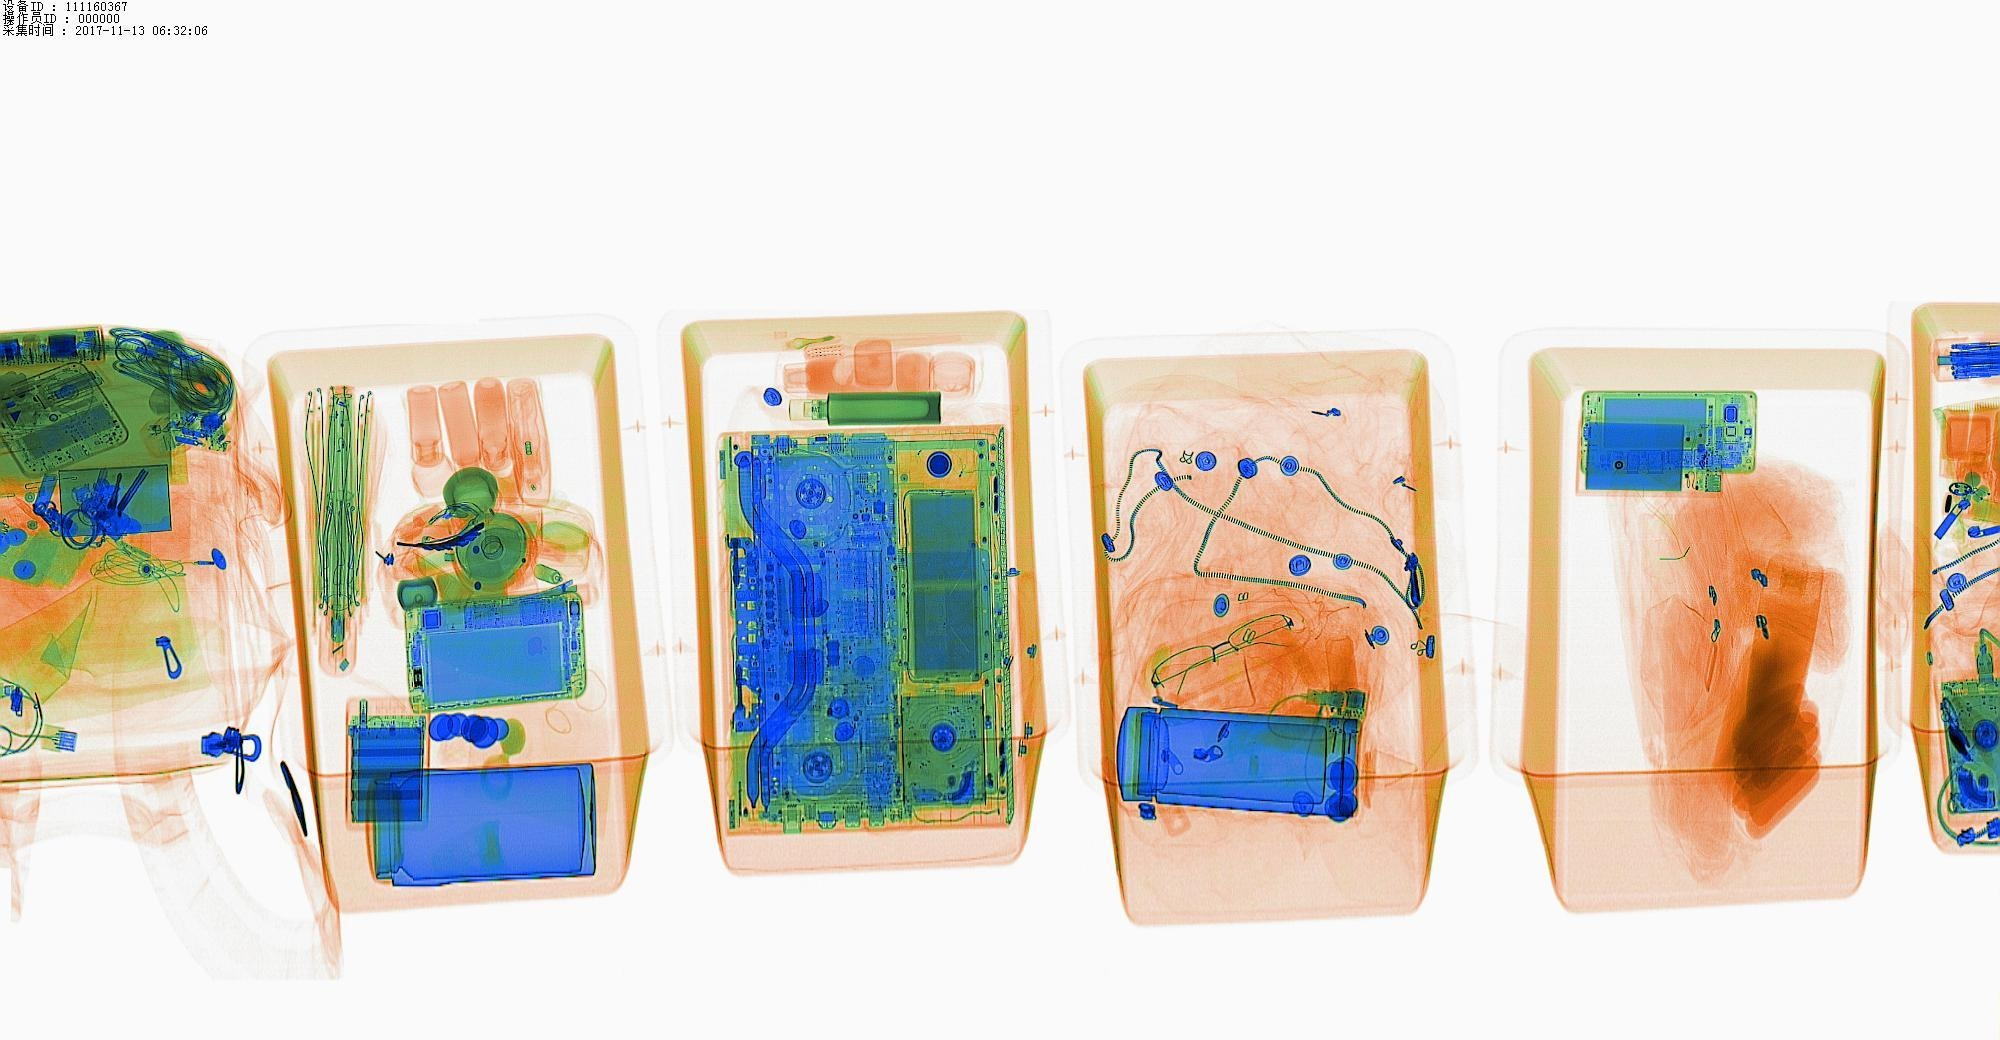core: (354, 703, 423, 816)
coreless: (1575, 423, 1716, 494)
